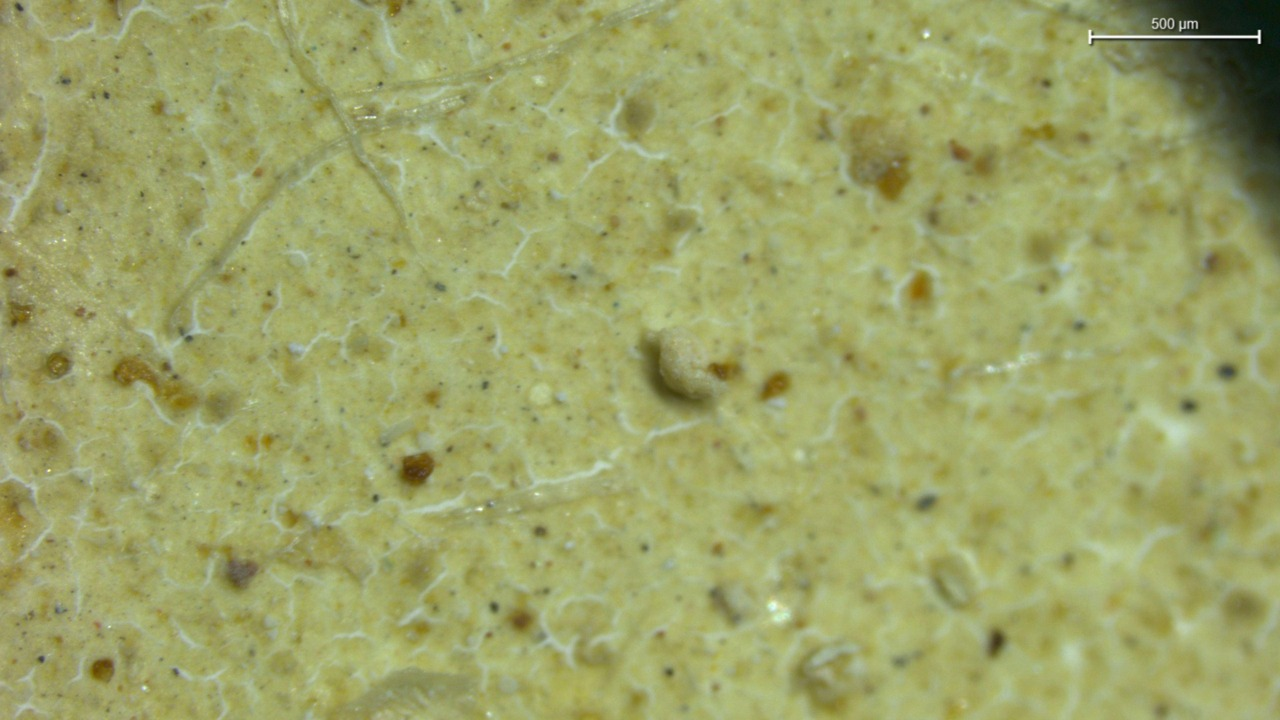microplastic_fragment: (658, 327, 727, 400)
